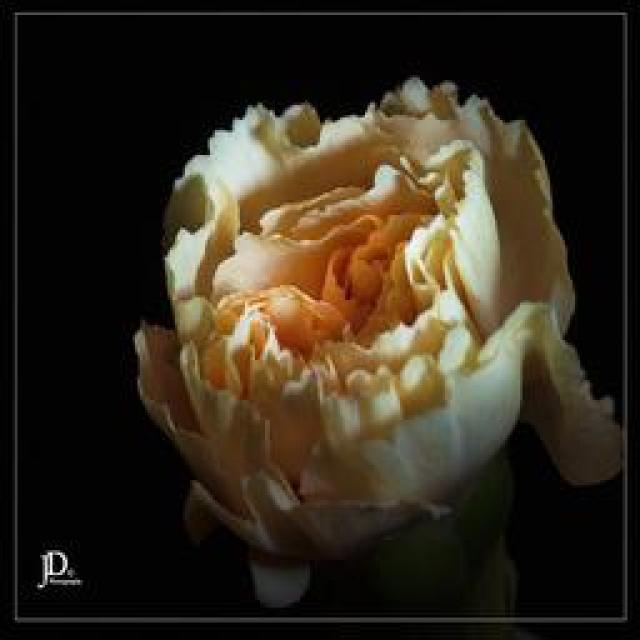carnation: (122, 75, 630, 601)
